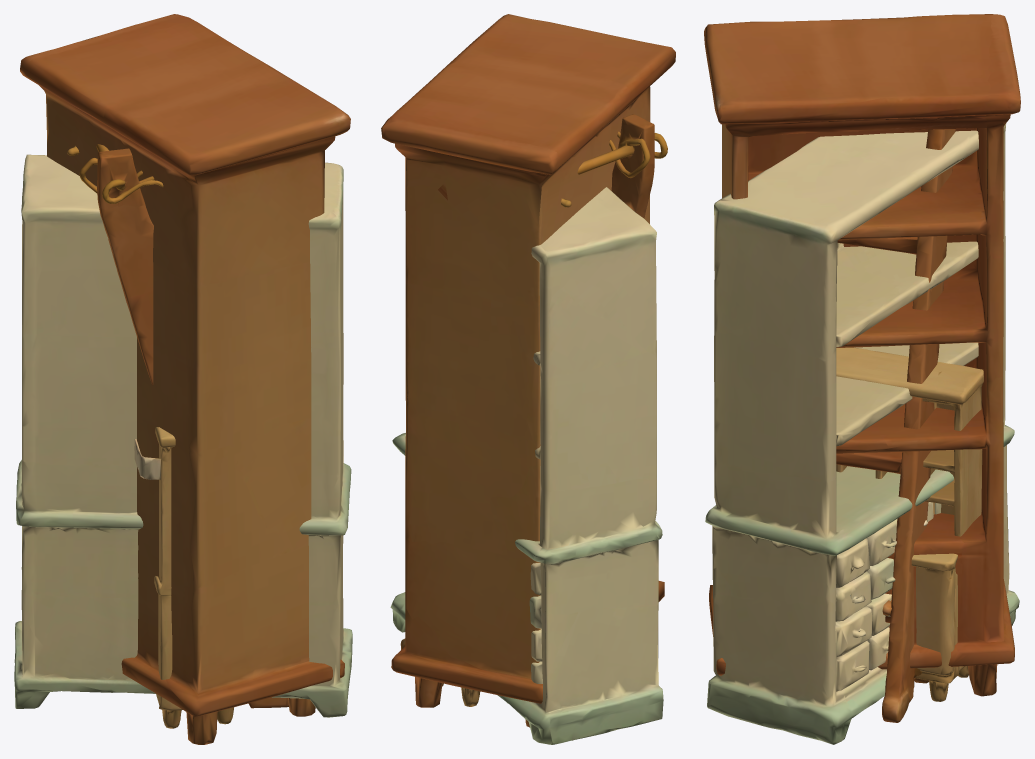
File: rangements.glb
3 views of the same model, side by side, from view 1: azimuth 30°, elevation 25°; view 2: azimuth 150°, elevation 25°; view 3: azimuth 270°, elevation 25° (orthographic). The views are drawn at different scales.
Visible parts, largest first — view 1: bibliotheque-murale, etagere-pharmacie, echelle-bibliotheque, casier-de-tri; view 2: bibliotheque-murale, etagere-pharmacie, echelle-bibliotheque; view 3: etagere-pharmacie, bibliotheque-murale, casier-de-tri, echelle-bibliotheque.
Boxes of the visible parts, x1,y1,x2,y2 form: bibliotheque-murale: (20, 14, 350, 744); etagere-pharmacie: (14, 154, 352, 717); echelle-bibliotheque: (67, 144, 288, 708); casier-de-tri: (134, 427, 233, 728); bibliotheque-murale: (381, 14, 675, 727); etagere-pharmacie: (390, 187, 663, 744); echelle-bibliotheque: (400, 114, 667, 649); etagere-pharmacie: (705, 123, 1019, 744); bibliotheque-murale: (704, 14, 1020, 696); casier-de-tri: (836, 347, 983, 701); echelle-bibliotheque: (836, 129, 955, 722).
Size of the model in its own units: 1.28 by 2.4 by 1.12.
2 materials, 2 textured.
